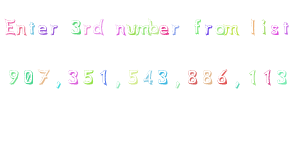,: (110, 75, 126, 94), (170, 75, 184, 96), (230, 76, 245, 94), (52, 77, 66, 93)
0: (20, 66, 37, 88)
1: (95, 62, 112, 92), (258, 63, 275, 88), (242, 63, 260, 86)
3: (154, 62, 173, 89), (273, 62, 291, 90), (64, 65, 81, 88), (68, 14, 81, 37)
4: (140, 63, 156, 89)
5: (80, 64, 97, 89), (124, 63, 141, 88)
6: (214, 64, 230, 89)
7: (35, 66, 53, 90)
8: (183, 59, 200, 89), (199, 63, 216, 91)
9: (3, 65, 22, 88)
E: (1, 17, 15, 37)
b: (147, 15, 159, 38)
d: (91, 14, 105, 37)
e: (158, 20, 170, 40), (35, 22, 48, 38)
f: (188, 14, 204, 40)
i: (258, 18, 267, 38)
l: (245, 14, 259, 37)
m: (133, 18, 151, 38), (222, 21, 240, 39)
n: (112, 19, 127, 40), (15, 21, 28, 38)
o: (214, 22, 227, 38)
r: (169, 20, 183, 39), (201, 21, 215, 39), (82, 22, 92, 38), (49, 23, 60, 37)
s: (268, 20, 282, 39)
t: (279, 14, 292, 38), (27, 19, 39, 36)
u: (124, 19, 137, 39)
